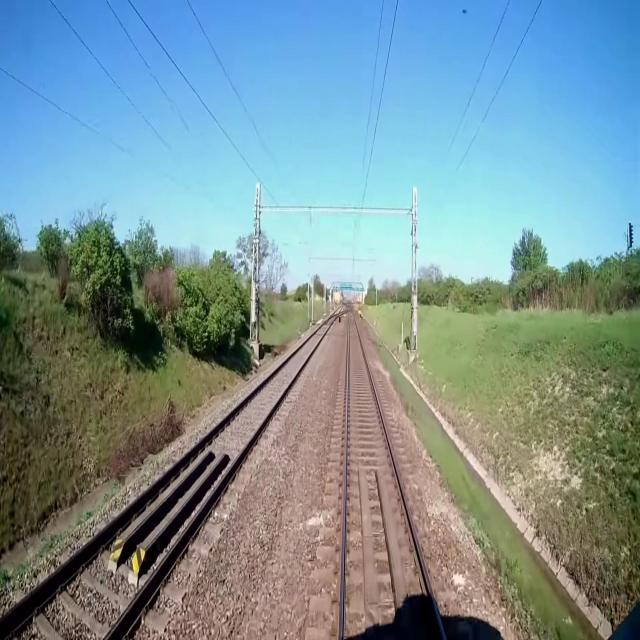rail-track: (0, 318, 332, 639), (343, 311, 442, 639)
